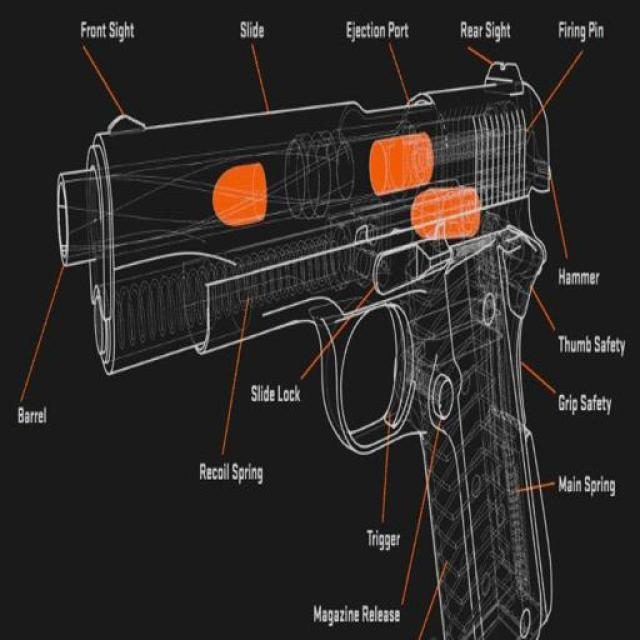pistol: (56, 59, 557, 638)
